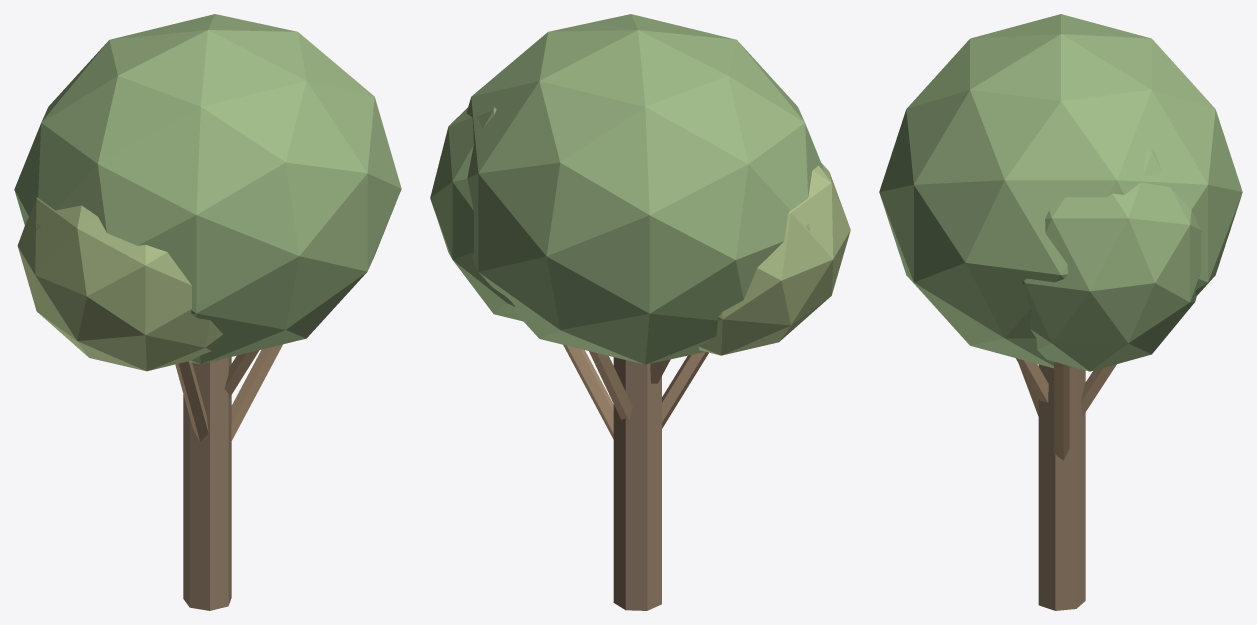
File: tree.glb
3 renders of one model, left to right at view 1: azimuth 30°, elevation 25°; view 2: azimuth 150°, elevation 25°; view 3: azimuth 270°, elevation 25°, orthographic.
Visible parts, largest first — view 1: part6, part7, part0, part1, part2, part4; view 2: part6, part7, part0, part8, part1, part2, part3; view 3: part6, part8, part0, part1, part3, part4.
Part boxes in pixels (left/top/right/bottom): part6: left=14, top=14, right=401, bottom=364; part7: left=17, top=197, right=222, bottom=371; part0: left=183, top=357, right=231, bottom=610; part1: left=231, top=344, right=282, bottom=441; part2: left=175, top=361, right=208, bottom=441; part4: left=224, top=350, right=259, bottom=398; part6: left=466, top=14, right=824, bottom=364; part7: left=698, top=162, right=850, bottom=355; part0: left=613, top=357, right=661, bottom=610; part8: left=430, top=107, right=523, bottom=321; part1: left=563, top=345, right=613, bottom=439; part2: left=662, top=352, right=708, bottom=428; part3: left=589, top=351, right=632, bottom=420; part6: left=879, top=14, right=1242, bottom=368; part8: left=1022, top=150, right=1201, bottom=371; part0: left=1038, top=364, right=1085, bottom=610; part1: left=1054, top=362, right=1069, bottom=460; part3: left=1081, top=364, right=1116, bottom=416; part4: left=1015, top=358, right=1048, bottom=402.
Bounding box in the file's own units: 5.7 × 8.6 × 5.
